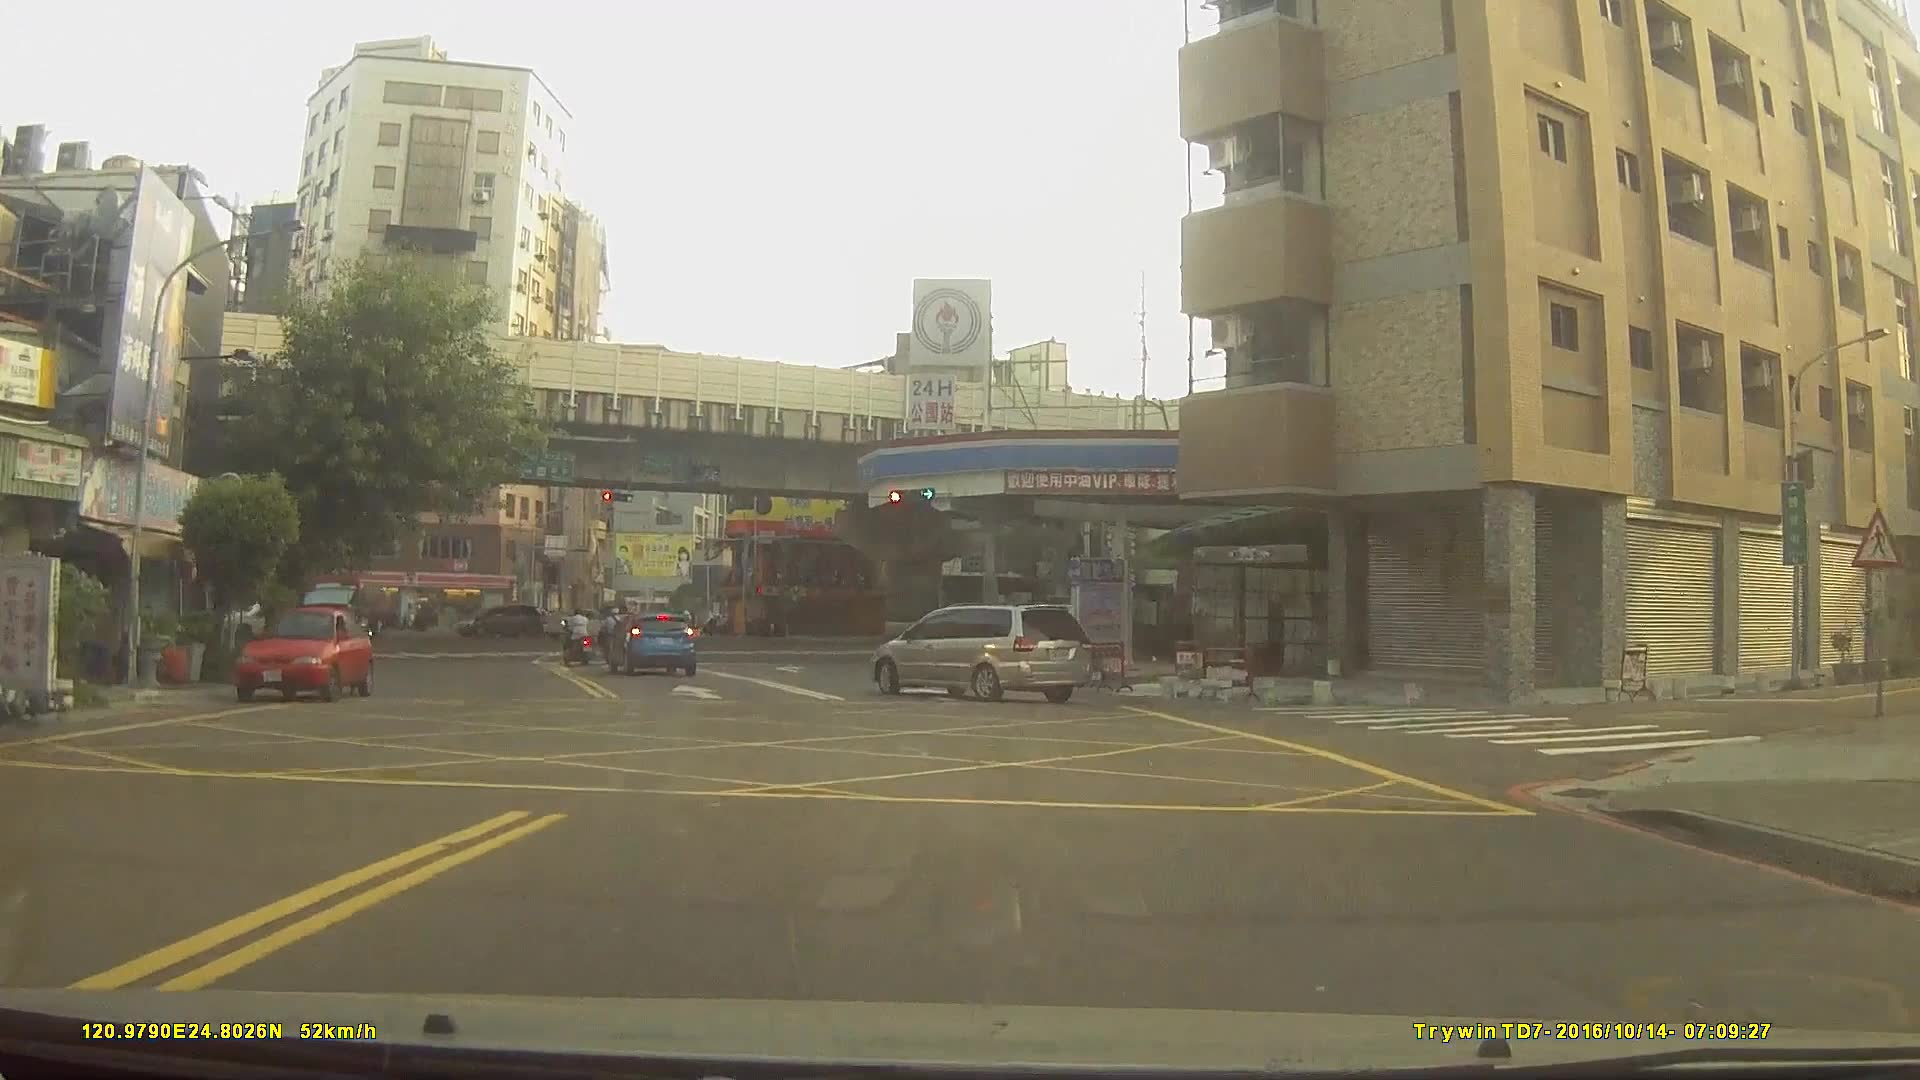rider: (558, 606, 591, 666)
vehicle: (870, 601, 1092, 700), (232, 603, 372, 703), (602, 608, 698, 674), (454, 604, 544, 640), (540, 604, 618, 637)
